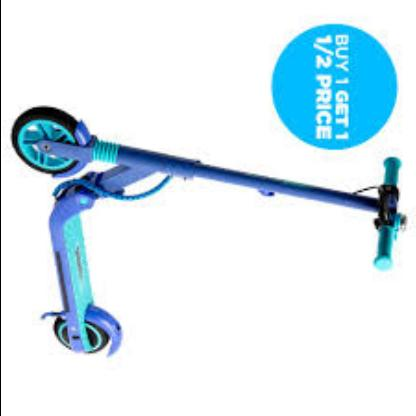bike: (11, 104, 415, 359)
